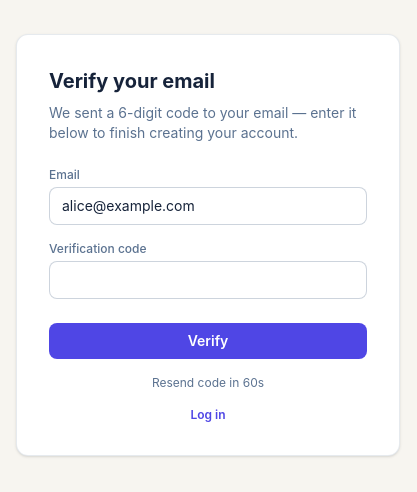
VerifyEmailPage › shows the server error and does not navigate on a wrong code (negative case)
This screenshot has width=417, height=492.
Type "000000" into the field labelled "Verification code". click: coordinates (208, 280)
box: [49, 261, 367, 299]
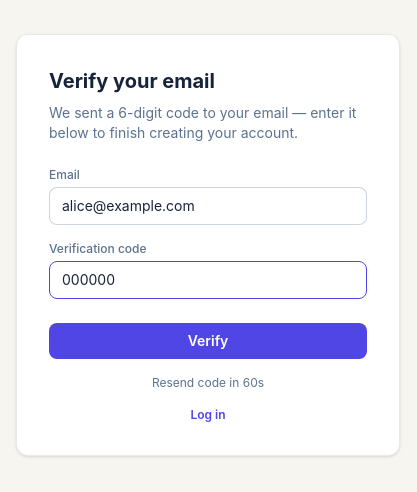
Click the button "Verify". click: coordinates (208, 341)
box: [49, 323, 367, 359]
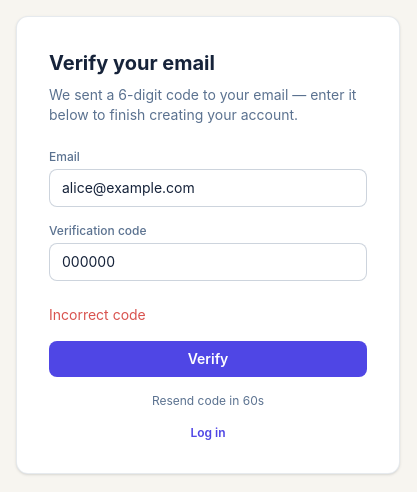
expect the text "Incorrect code" is shown: met, box [49, 306, 146, 323]
